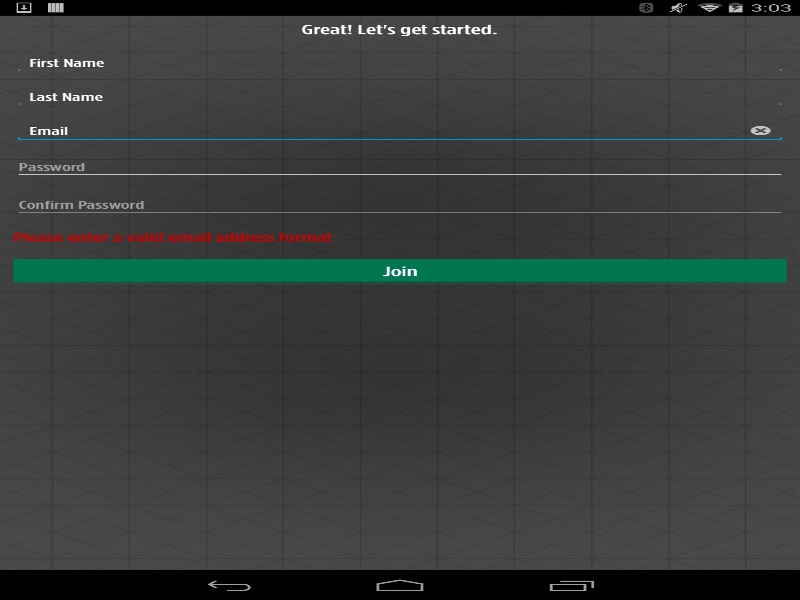Button: (13, 256, 786, 286)
Input: (13, 154, 786, 179), (13, 192, 786, 217), (13, 52, 786, 73), (13, 86, 786, 107), (13, 120, 786, 141)
